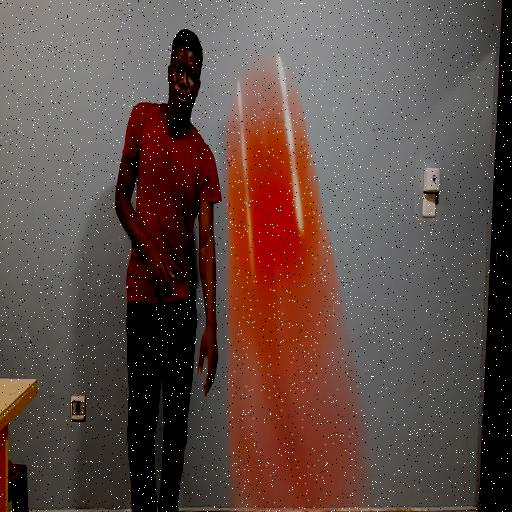plastic-ball: (218, 42, 374, 512)
